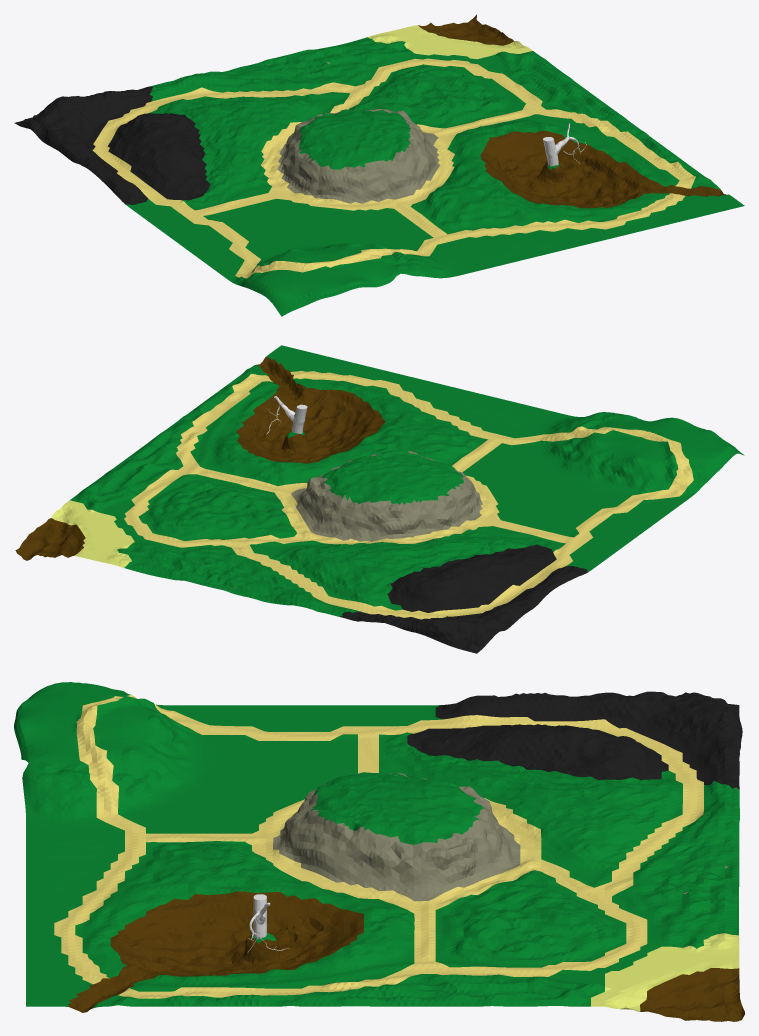
File: Terrain1_Textured.fbx
3 views of the same model, one above another, from view 1: azimuth 30°, elevation 25°; view 2: azimuth 150°, elevation 25°; view 3: azimuth 270°, elevation 25° (orthographic). The views are drawn at different scales.
Parts seen in each view (by area): view 1: Plane, Cube; view 2: Plane, Cube; view 3: Plane, Cube.
Part boxes in pixels (box(x1,y1,x2,y2)): Plane: box(14, 14, 744, 316); Cube: box(543, 123, 586, 166); Plane: box(15, 345, 744, 653); Cube: box(266, 396, 307, 434); Plane: box(14, 682, 744, 1021); Cube: box(247, 894, 288, 952).
Size of the model in its own units: 2032 by 225 by 2050.
